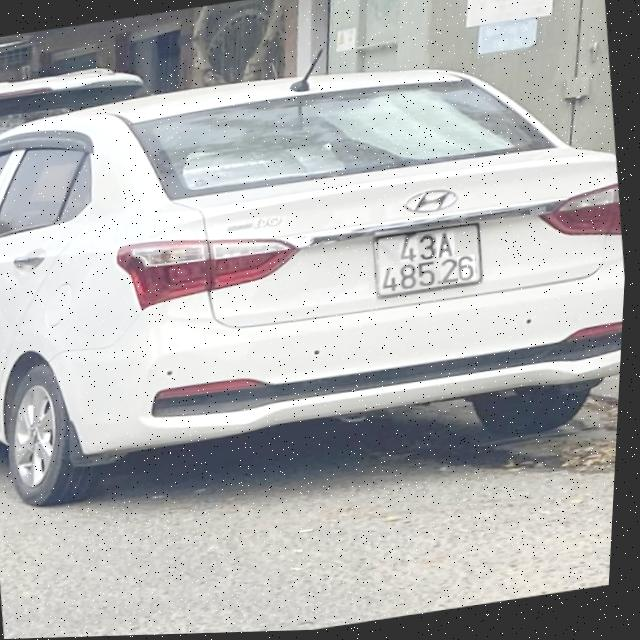car: (0, 12, 638, 513)
plate: (359, 208, 497, 307)
